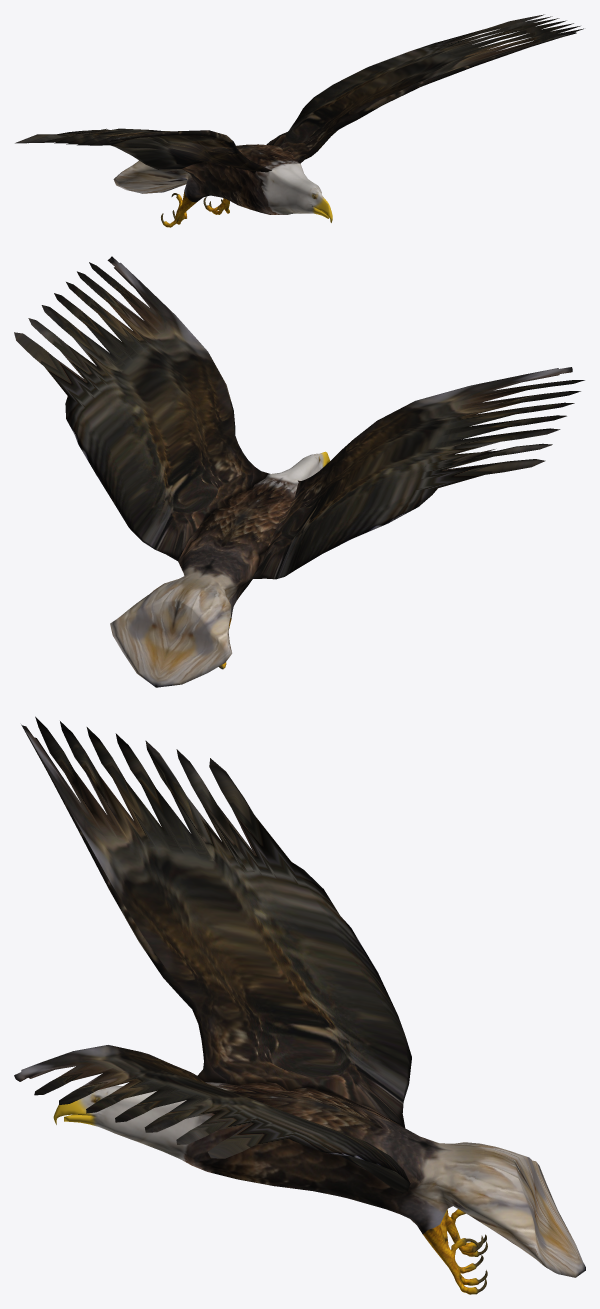
Rendered from Eagle-original_000019.obj.
3 views of the same model, one above another, from view 1: azimuth 30°, elevation 25°; view 2: azimuth 150°, elevation 25°; view 3: azimuth 270°, elevation 25° (orthographic). The views are drawn at different scales.
Parts seen in each view (by area): view 1: Flugel_Plane.003; view 2: Flugel_Plane.003; view 3: Flugel_Plane.003.
Part boxes in pixels (<box>): Flugel_Plane.003: <box>15,14,583,227</box>; Flugel_Plane.003: <box>14,256,584,687</box>; Flugel_Plane.003: <box>14,716,585,1294</box>.
Bounding box in the file's own units: 10.25 × 4.49 × 6.21.
1 material, 1 textured.
